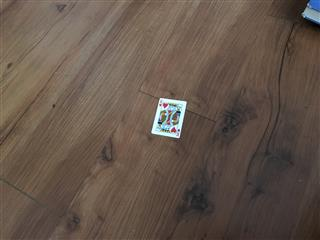KingOfHearts: (150, 97, 187, 138)
